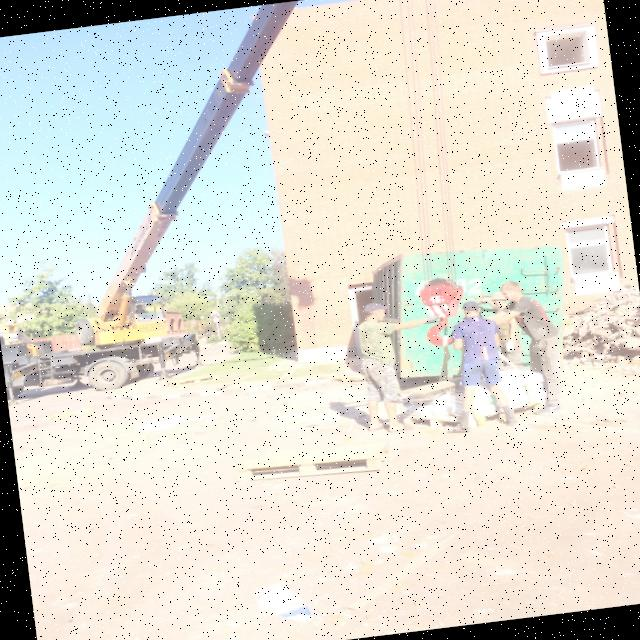NoHelmet: (362, 301, 392, 323), (500, 281, 524, 304), (461, 300, 483, 319), (491, 291, 510, 309)
